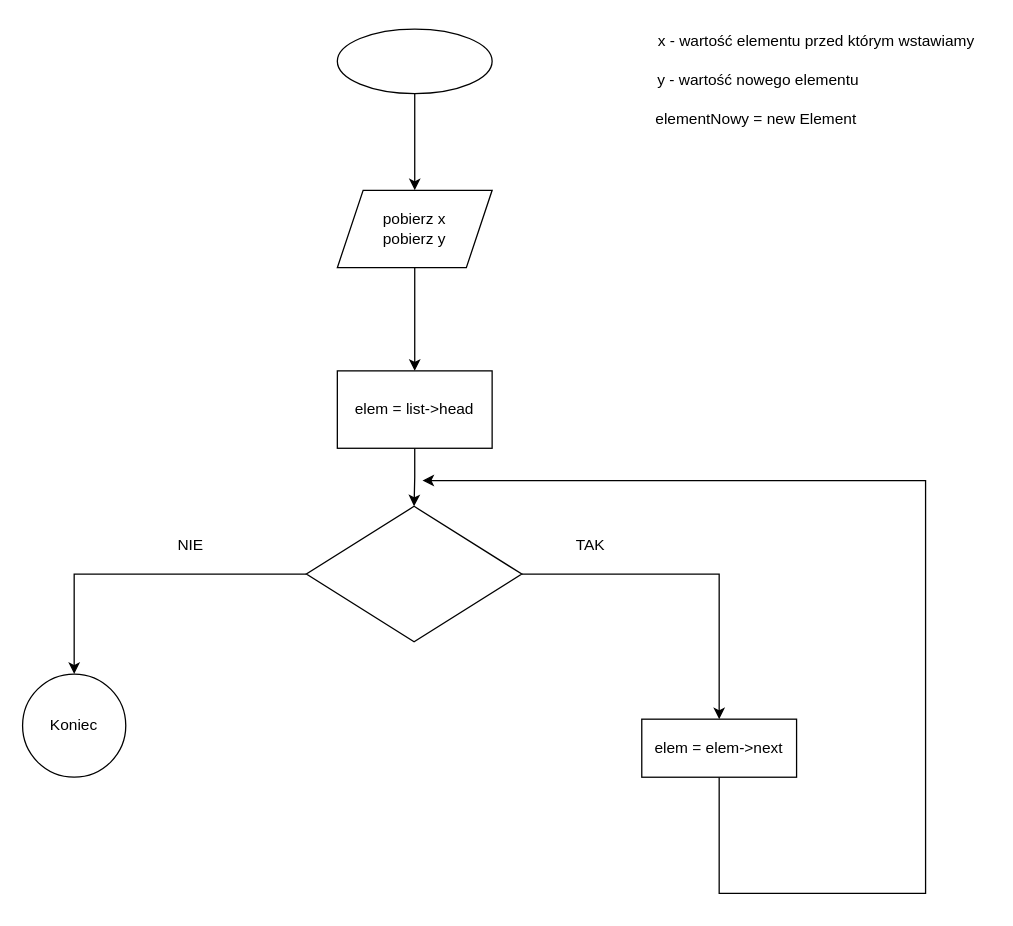
Image size: 1013x926. Some labels were removed from this diagram. Here are the shapes that lost their labels. From the top down, the centre of each, then its label:
[414,61]: START
[413,573]: if elem->next != null
